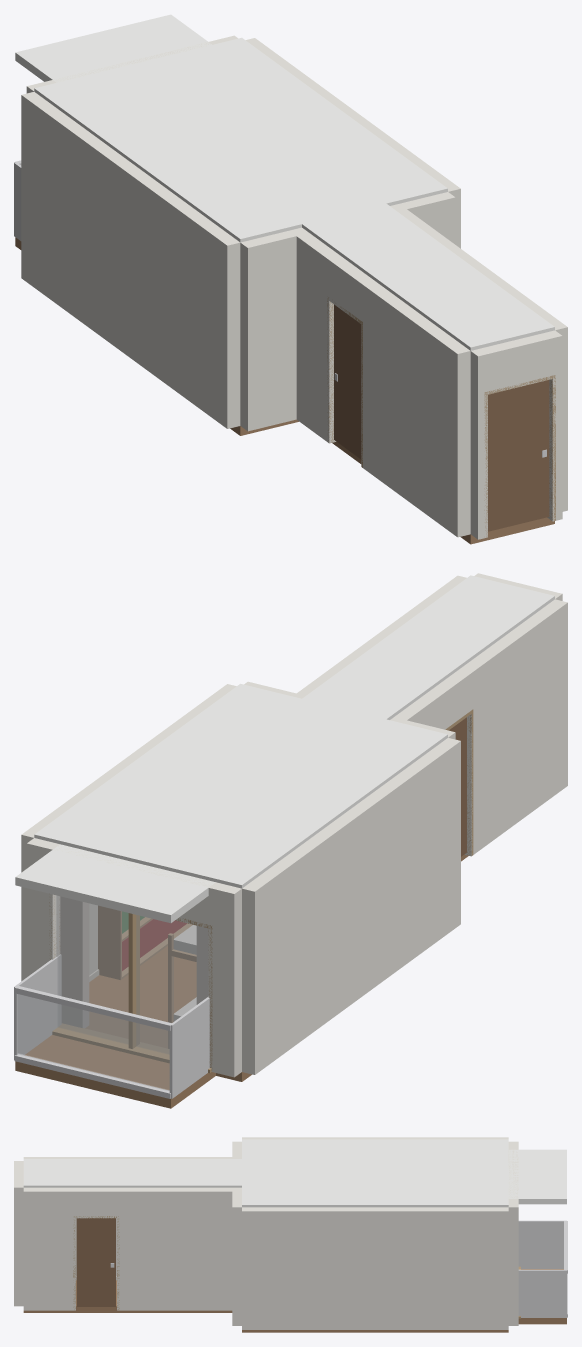
File: apartment_reconstruction.glb
3 renders of one model, top to bottom at view 1: azimuth 30°, elevation 25°; view 2: azimuth 150°, elevation 25°; view 3: azimuth 270°, elevation 25°, orthographic. The views are drawn at different scales.
Parts seen in each view (by area): view 1: Ceil_Bedroom, Wall_Left, Wall_HL_L_a, Ceil_Hallway, Wall_Door_L, XDoor_Leaf, Wall_HL_L_b, Ceil_Balcony, HDoor1_Leaf, Wall_Exit_L, Wall_Exit_T, Wall_Exit_R (+7 smaller); view 2: Ceil_Bedroom, Wall_Left, Wall_HL_L_a, Win_Glass, Ceil_Hallway, Balc_FrontPanel, Ceil_Balcony, Wall_Win_L, Floor_Balcony, Floor_Bedroom, Wall_Right, CurtainR (+15 smaller); view 3: Wall_Right, Ceil_Bedroom, Wall_HL_R_b, Wall_HL_R_a, Ceil_Hallway, HDoor2_Leaf, Ceil_Balcony, Balc_SideR, Balc_SideL, Wall_Win_R, Wall_Door_R, Wall_HL_R_t (+7 smaller).
Part boxes in pixels (x1=…): Ceil_Bedroom: x1=34, y1=37, x2=447, y2=242; Wall_Left: x1=21, y1=92, x2=240, y2=428; Wall_HL_L_a: x1=361, y1=280, x2=470, y2=537; Ceil_Hallway: x1=302, y1=203, x2=554, y2=350; Wall_Door_L: x1=240, y1=229, x2=308, y2=431; XDoor_Leaf: x1=488, y1=380, x2=549, y2=531; Wall_HL_L_b: x1=289, y1=227, x2=341, y2=443; Ceil_Balcony: x1=15, y1=14, x2=211, y2=82; HDoor1_Leaf: x1=334, y1=304, x2=361, y2=459; Wall_Exit_L: x1=470, y1=348, x2=487, y2=539; Wall_Exit_T: x1=480, y1=333, x2=552, y2=394; Wall_Exit_R: x1=545, y1=330, x2=562, y2=521; Ceil_Bedroom: x1=34, y1=683, x2=447, y2=888; Wall_Left: x1=242, y1=738, x2=460, y2=1074; Wall_HL_L_a: x1=459, y1=599, x2=567, y2=856; Win_Glass: x1=56, y1=895, x2=208, y2=1053; Ceil_Hallway: x1=302, y1=575, x2=554, y2=719; Balc_FrontPanel: x1=15, y1=994, x2=170, y2=1090; Ceil_Balcony: x1=15, y1=844, x2=215, y2=923; Wall_Win_L: x1=208, y1=882, x2=241, y2=1077; Floor_Balcony: x1=15, y1=1035, x2=215, y2=1108; Floor_Bedroom: x1=85, y1=946, x2=251, y2=1081; Wall_Right: x1=21, y1=684, x2=236, y2=981; CurtainR: x1=60, y1=896, x2=89, y2=1027; Wall_Right: x1=242, y1=1207, x2=508, y2=1329; Ceil_Bedroom: x1=242, y1=1139, x2=508, y2=1207; Wall_HL_R_b: x1=117, y1=1187, x2=241, y2=1310; Wall_HL_R_a: x1=23, y1=1187, x2=75, y2=1310; Ceil_Hallway: x1=23, y1=1159, x2=241, y2=1187; HDoor2_Leaf: x1=76, y1=1218, x2=115, y2=1306; Ceil_Balcony: x1=508, y1=1149, x2=566, y2=1204; Balc_SideR: x1=518, y1=1269, x2=566, y2=1317; Balc_SideL: x1=518, y1=1220, x2=566, y2=1268; Wall_Win_R: x1=508, y1=1199, x2=518, y2=1325; Wall_Door_R: x1=232, y1=1187, x2=241, y2=1325; Wall_HL_R_t: x1=76, y1=1187, x2=116, y2=1218.
Size of the model in its own units: 3.6 by 2.9 by 11.42.
